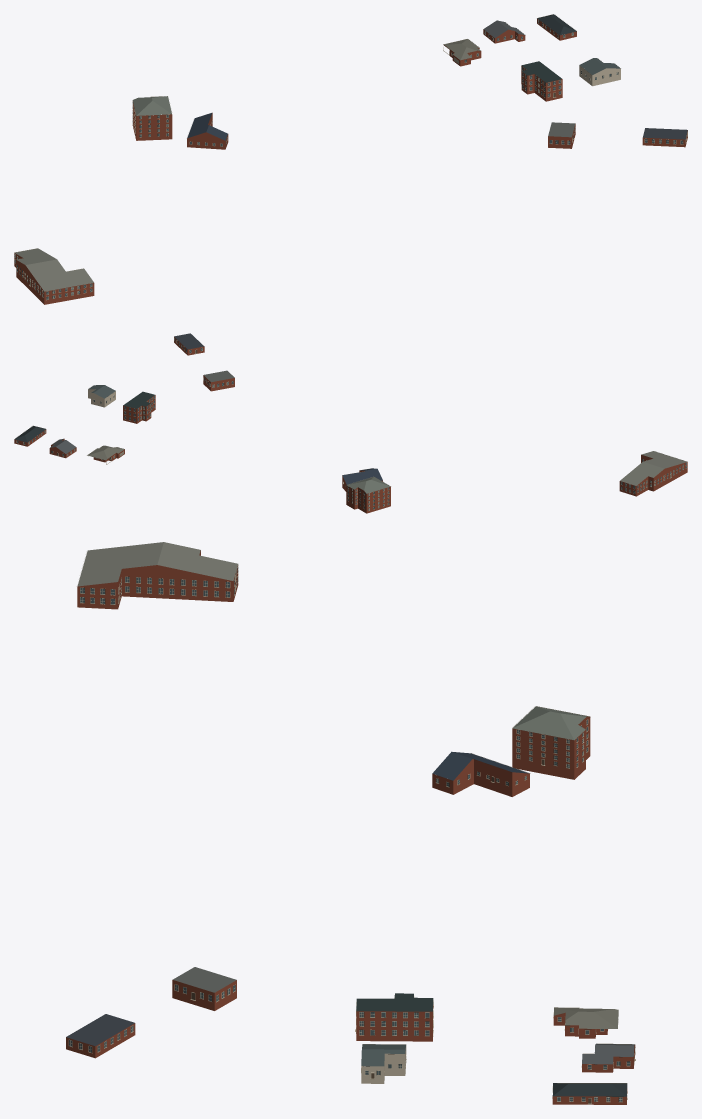
The picture shows the model from 3 angles, top to bottom: view 1: azimuth 30°, elevation 25°; view 2: azimuth 150°, elevation 25°; view 3: azimuth 270°, elevation 25°; orthographic projection. The views are drawn at different scales.
Visible parts, largest first — view 1: -3_-2_318286270_0, -3_-2_624482551_32; view 2: -3_-2_318286270_0; view 3: -3_-2_318286270_0, -3_-2_624482551_32.
Part boxes in pixels (x1,y1,x2,y2): -3_-2_318286270_0: (14, 14, 687, 304); -3_-2_624482551_32: (579, 65, 620, 86); -3_-2_318286270_0: (14, 333, 687, 513); -3_-2_318286270_0: (66, 542, 635, 1104); -3_-2_624482551_32: (361, 1045, 406, 1083).
Size of the model in its own units: 451 by 26.8 by 207.
